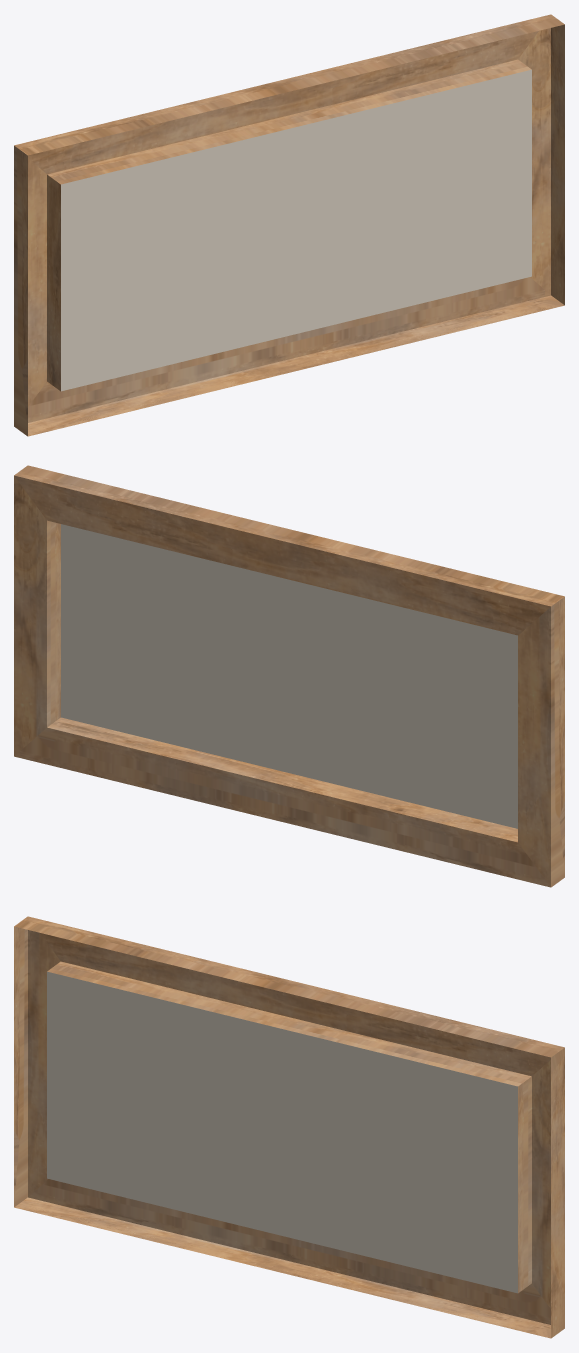
Rendered from NNJ0510026.fbx.
3 renders of one model, top to bottom at view 1: azimuth 30°, elevation 25°; view 2: azimuth 150°, elevation 25°; view 3: azimuth 330°, elevation 25°, orthographic.
Visible parts, largest first — view 1: smNNJ0510026; view 2: smNNJ0510026; view 3: smNNJ0510026.
Boxes of the visible parts, x1,y1,x2,y2 form: smNNJ0510026: [14, 14, 564, 436]; smNNJ0510026: [14, 465, 564, 887]; smNNJ0510026: [14, 916, 564, 1338].
Size of the model in its own units: 170 by 85.16 by 7.6.
Materials: 1 (1 with a texture image).
